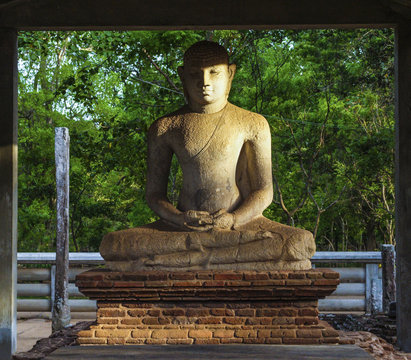body: (96, 107, 319, 267)
head: (178, 39, 238, 107)
